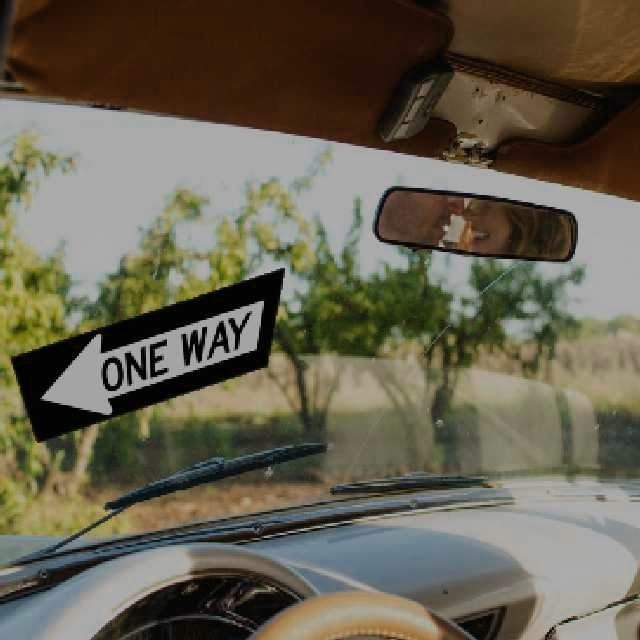ONE_WAY_ left: (8, 265, 284, 442)
